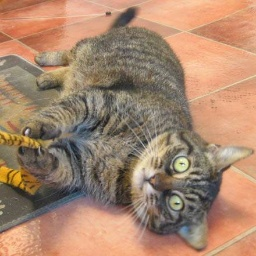cat: (29, 17, 219, 247)
